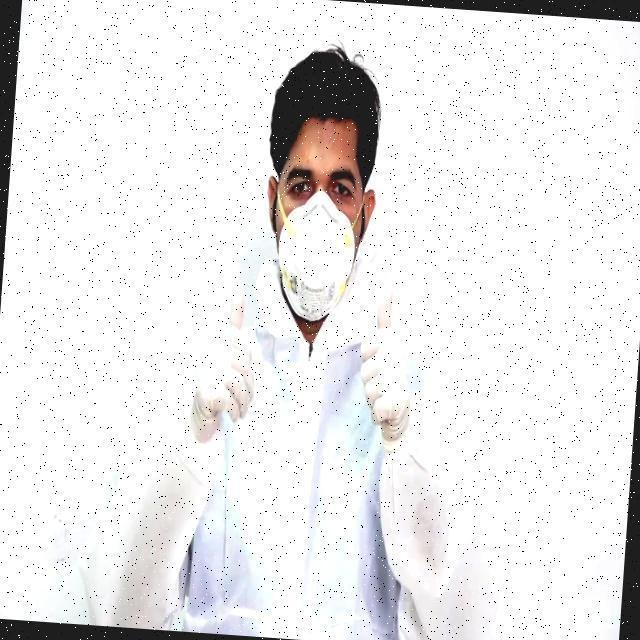apron: (351, 288, 434, 450), (196, 292, 262, 440)
mask: (277, 197, 353, 335)
no_gloves: (260, 48, 396, 130)
